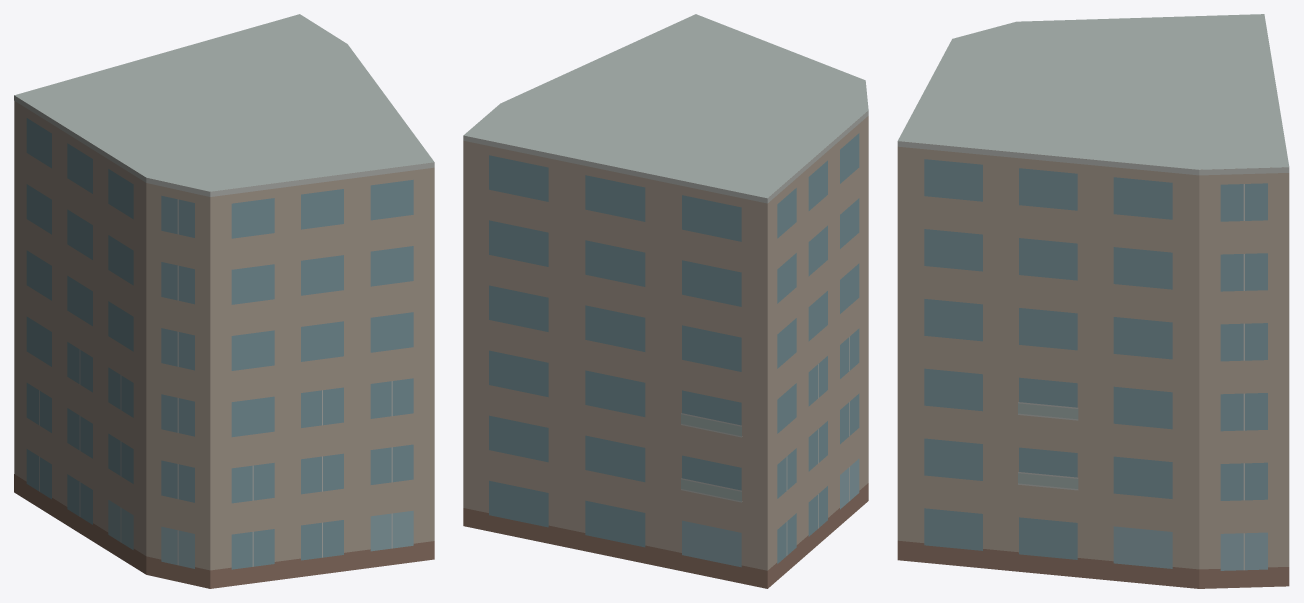
The model's file is survey-upis-33040758.glb.
3 renders of one model, left to right at view 1: azimuth 30°, elevation 25°; view 2: azimuth 150°, elevation 25°; view 3: azimuth 270°, elevation 25°, orthographic. The views are drawn at different scales.
Visible parts, largest first — view 1: survey-upis-33040758.tmp; view 2: survey-upis-33040758.tmp; view 3: survey-upis-33040758.tmp.
Boxes of the visible parts, box(x1,y1,x2,y2) form: survey-upis-33040758.tmp: box(14, 14, 434, 588); survey-upis-33040758.tmp: box(463, 14, 868, 588); survey-upis-33040758.tmp: box(897, 14, 1289, 588).
Bounding box in the file's own units: 14.6 × 18.3 × 15.52.
